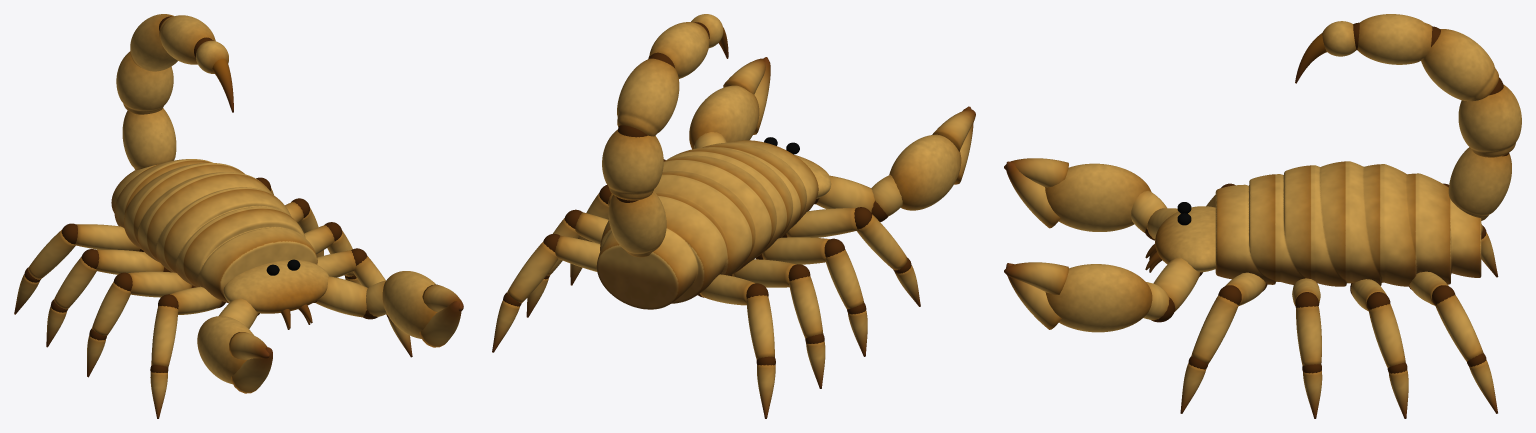
File: glass-scorpion-sculpt.glb
3 renders of one model, left to right at view 1: azimuth 30°, elevation 25°; view 2: azimuth 150°, elevation 25°; view 3: azimuth 270°, elevation 25°, orthographic. The views are drawn at different scales.
Visible parts, largest first — view 1: glass-scorpion_sculpt; view 2: glass-scorpion_sculpt; view 3: glass-scorpion_sculpt.
Boxes of the visible parts, x1,y1,x2,y2 form: glass-scorpion_sculpt: [14, 14, 463, 418]; glass-scorpion_sculpt: [492, 14, 975, 418]; glass-scorpion_sculpt: [1004, 14, 1521, 418].
Size of the model in its own units: 0.5825 by 0.6049 by 0.8621.
